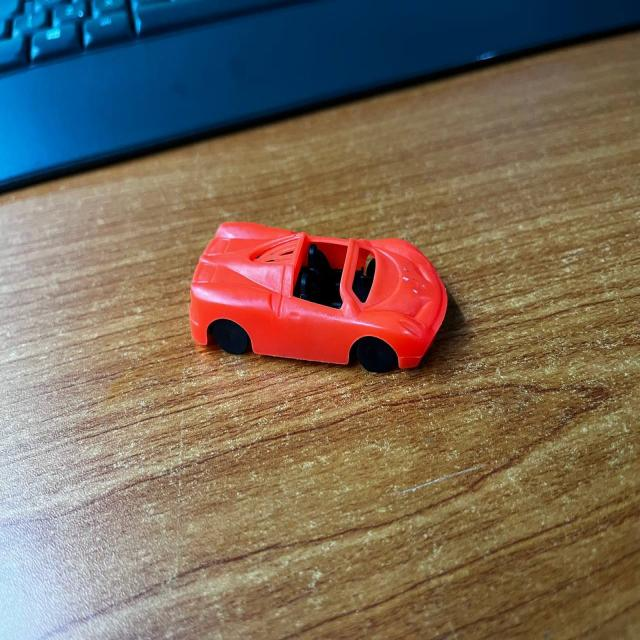car: (175, 202, 455, 393)
